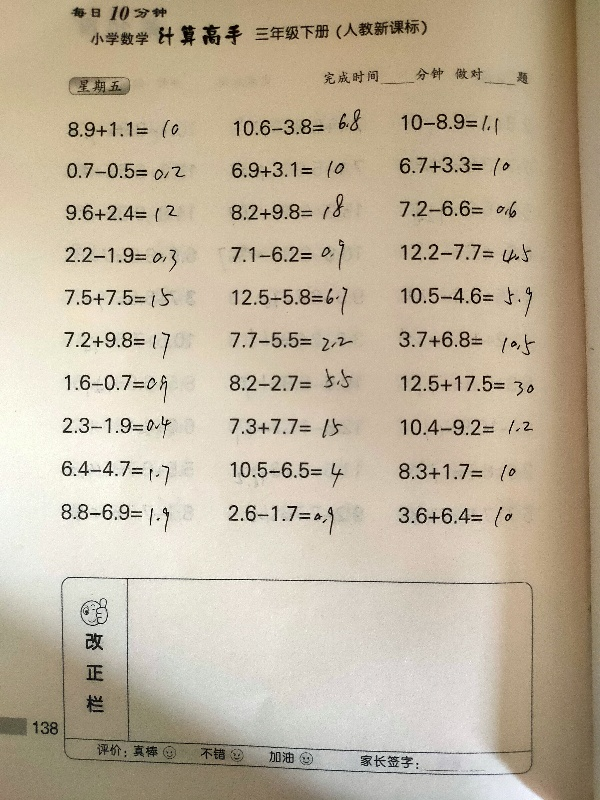equation: (389, 329, 553, 368), (385, 492, 528, 535), (395, 409, 556, 447), (49, 493, 187, 537), (215, 192, 363, 233), (224, 447, 348, 495), (55, 443, 187, 488), (219, 357, 364, 397), (53, 319, 191, 359), (225, 277, 359, 317), (395, 233, 540, 269), (45, 279, 185, 316), (57, 109, 189, 148), (384, 368, 549, 399), (391, 280, 543, 313), (389, 193, 529, 228), (393, 149, 511, 189), (224, 503, 348, 541), (391, 456, 519, 492), (52, 405, 180, 441), (228, 108, 367, 141), (49, 240, 189, 272), (225, 240, 353, 273), (225, 152, 347, 185), (61, 157, 185, 189), (395, 105, 505, 141), (56, 369, 179, 401), (220, 328, 360, 356), (226, 414, 346, 441), (63, 201, 184, 226)
